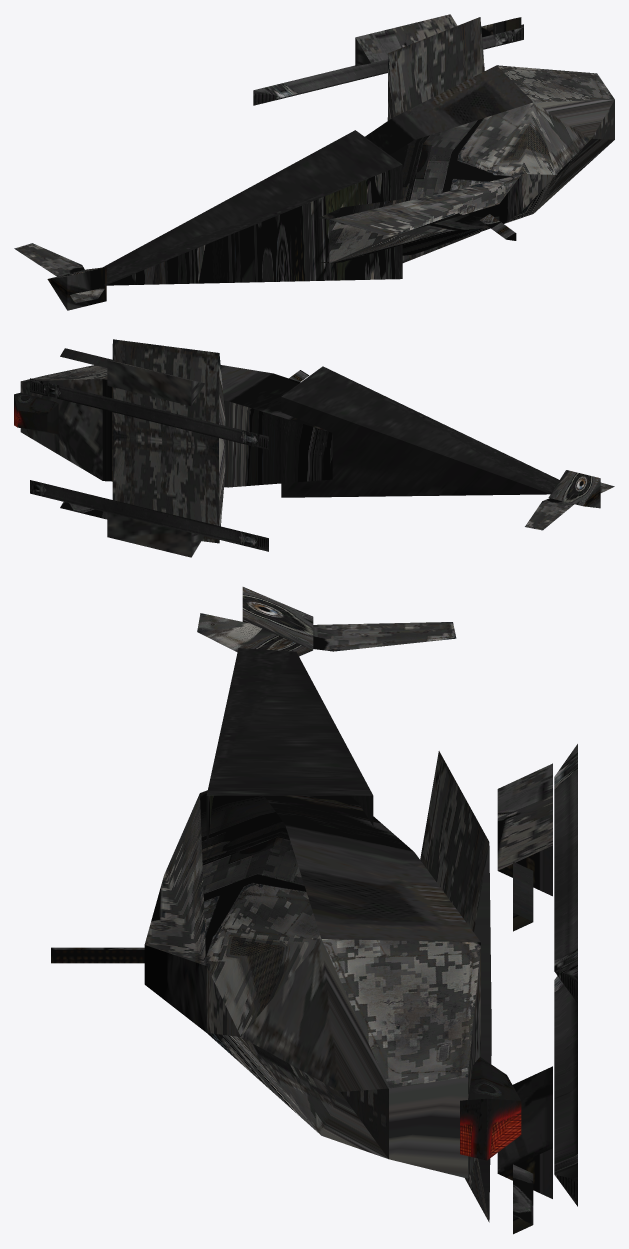
The model's file is veh_t6_drone_overwatch_dark_LOD3.obj.
3 renders of one model, top to bottom at view 1: azimuth 30°, elevation 25°; view 2: azimuth 150°, elevation 25°; view 3: azimuth 270°, elevation 25°, orthographic. The views are drawn at different scales.
Parts seen in each view (by area): view 1: mtl_drone_overwatch_body_dark; view 2: mtl_drone_overwatch_body_dark; view 3: mtl_drone_overwatch_body_dark.
Boxes of the visible parts, x1=… form: mtl_drone_overwatch_body_dark: x1=14, y1=14, x2=614, y2=310; mtl_drone_overwatch_body_dark: x1=14, y1=339, x2=614, y2=557; mtl_drone_overwatch_body_dark: x1=51, y1=587, x2=577, y2=1234.
Bounding box in the file's own units: 537 × 185 × 232.
